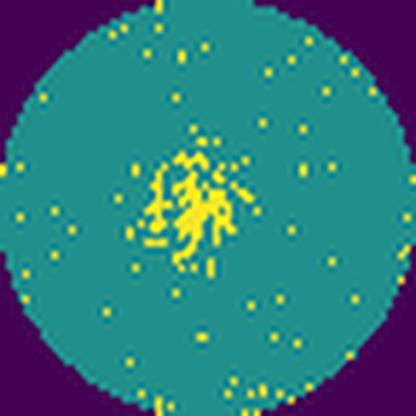Center: (138, 151, 239, 274)
